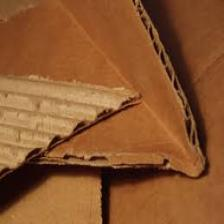cardboard: (0, 0, 212, 185), (99, 0, 224, 222), (0, 115, 110, 223)
